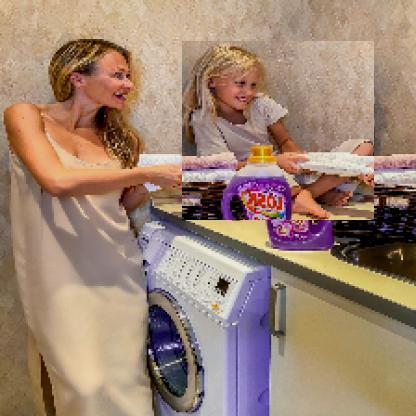child: (183, 42, 376, 222)
